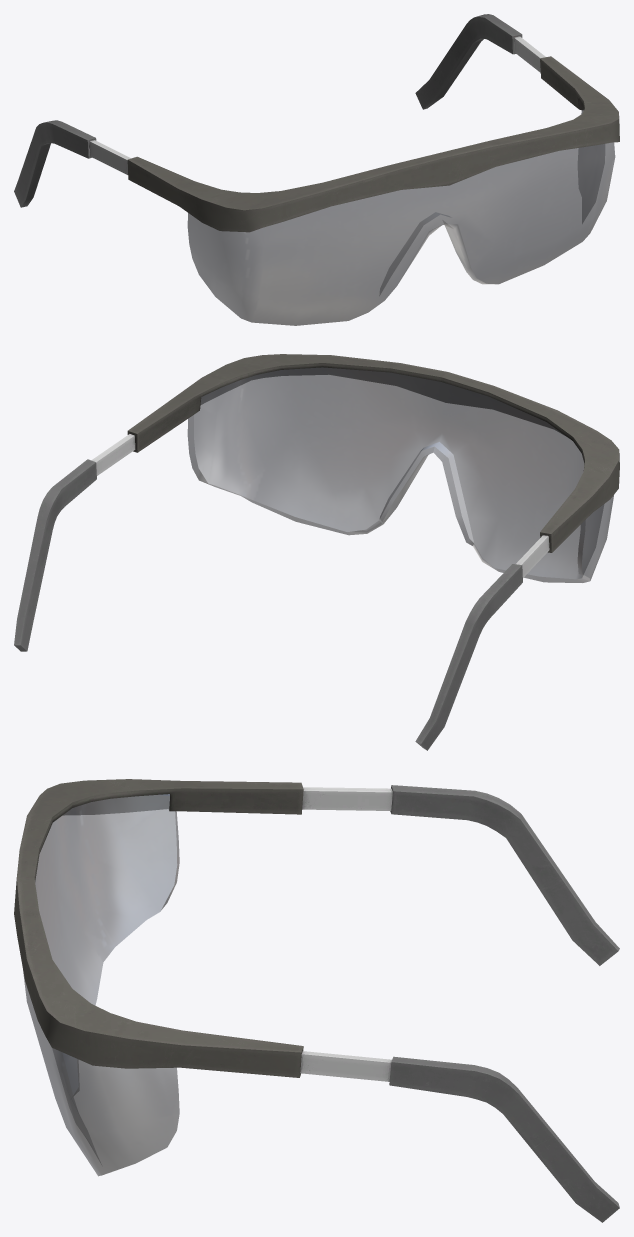
File: SM_Glasses_01a.glb
The picture shows the model from 3 angles, top to bottom: view 1: azimuth 30°, elevation 25°; view 2: azimuth 150°, elevation 25°; view 3: azimuth 270°, elevation 25°; orthographic projection. The views are drawn at different scales.
Parts seen in each view (by area): view 1: SM_Glasses_01a; view 2: SM_Glasses_01a; view 3: SM_Glasses_01a.
Boxes of the visible parts, box(x1,y1,x2,y2) form: SM_Glasses_01a: box(14, 14, 619, 325); SM_Glasses_01a: box(14, 354, 619, 750); SM_Glasses_01a: box(14, 779, 619, 1222).
Size of the model in its own units: 0.1763 by 0.063 by 0.1604.
Materials: 2 (2 with a texture image).
